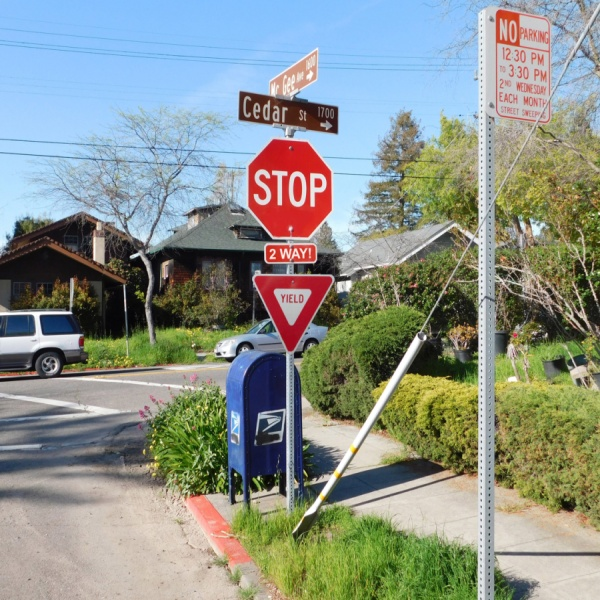stop: (249, 138, 331, 242)
